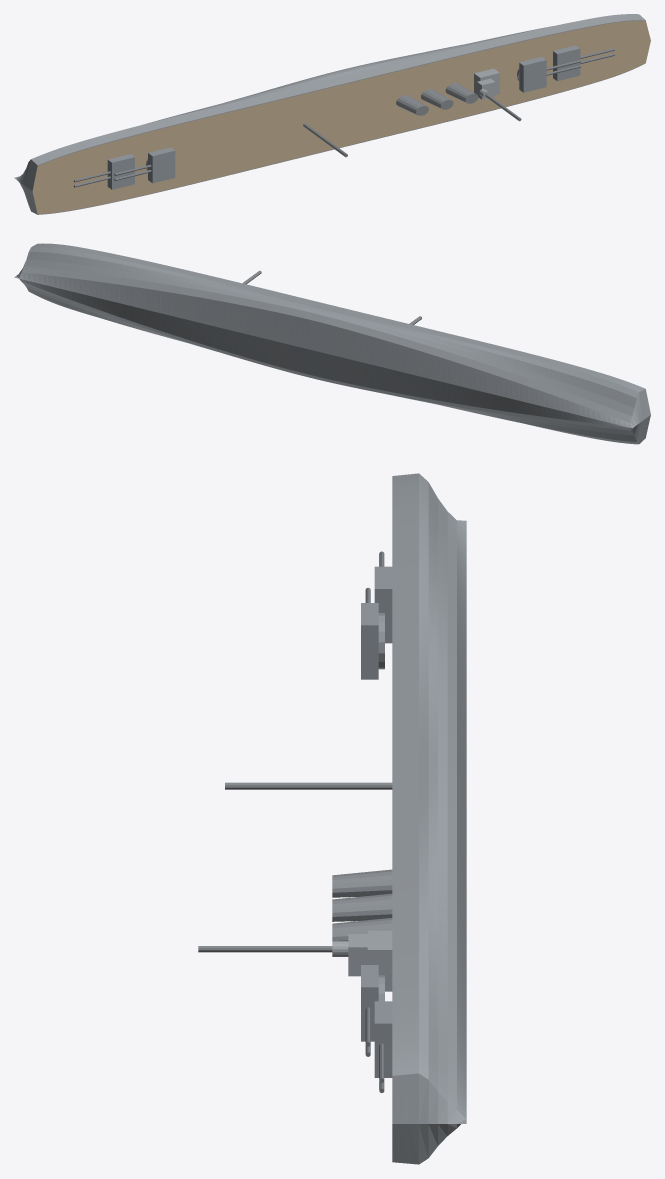
3 renders of one model, top to bottom at view 1: azimuth 30°, elevation 25°; view 2: azimuth 150°, elevation 25°; view 3: azimuth 270°, elevation 25°, orthographic. The views are drawn at different scales.
Visible parts, largest first — view 1: G; view 2: G; view 3: G.
Boxes of the visible parts, x1,y1,x2,y2 form: G: [14, 14, 650, 214]; G: [14, 243, 650, 444]; G: [198, 473, 466, 1164].
Size of the model in its own units: 287 by 30.32 by 53.77.
